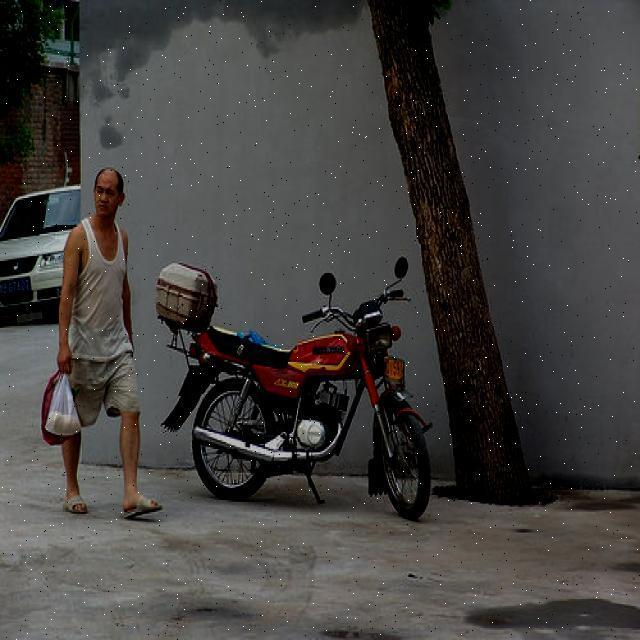car: (0, 181, 84, 330)
motorcycle: (153, 250, 437, 525)
